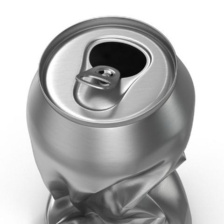can: (12, 13, 207, 224)
